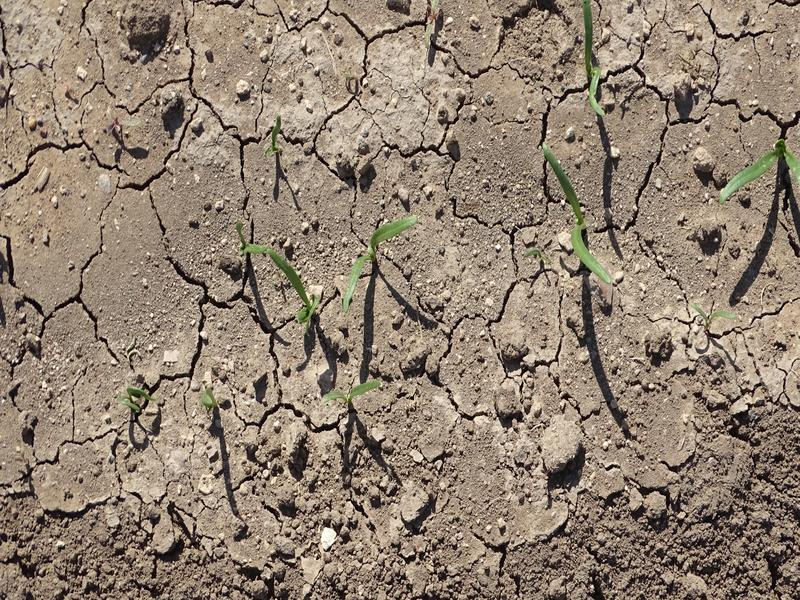Espinaca: (536, 142, 616, 284), (343, 213, 421, 306), (236, 239, 321, 320), (717, 142, 800, 201), (576, 3, 610, 118), (326, 378, 376, 409), (200, 378, 232, 415), (122, 381, 150, 413)
